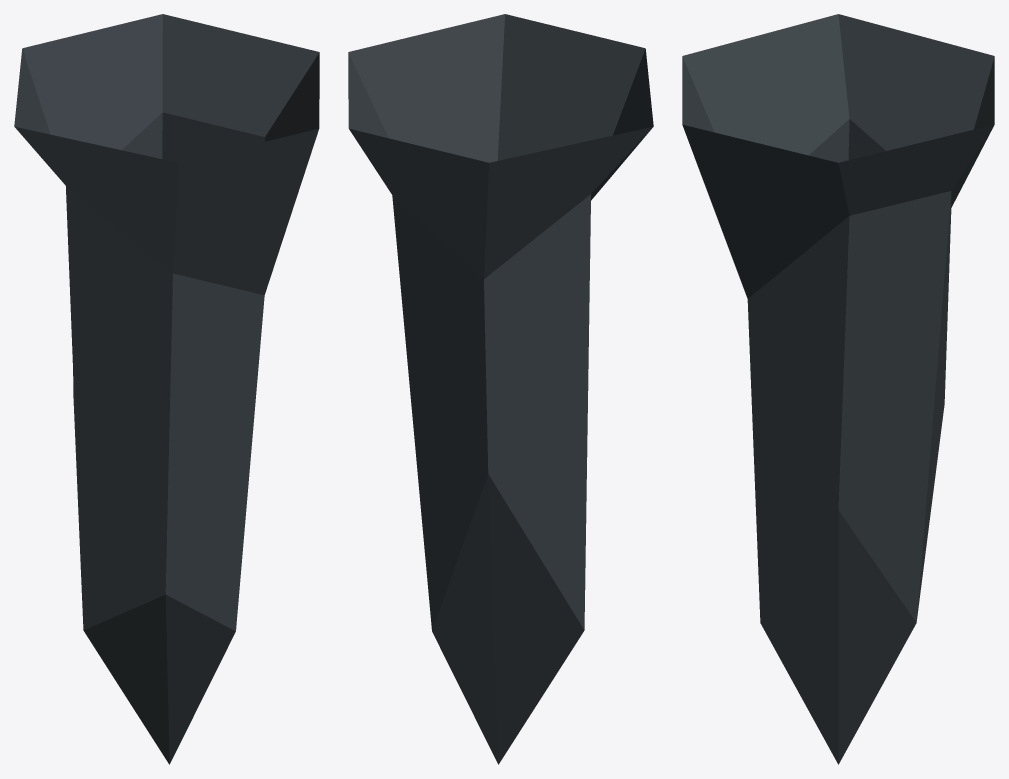
File: Stalacmite-A08.fbx
3 renders of one model, left to right at view 1: azimuth 30°, elevation 25°; view 2: azimuth 150°, elevation 25°; view 3: azimuth 270°, elevation 25°, orthographic.
Visible parts, largest first — view 1: Stalacmite-A08; view 2: Stalacmite-A08; view 3: Stalacmite-A08.
Boxes of the visible parts, x1,y1,x2,y2 form: Stalacmite-A08: (14,14,319,764); Stalacmite-A08: (348,14,653,764); Stalacmite-A08: (682,14,994,764).
Bounding box in the file's own units: 101 × 213 × 89.41.
